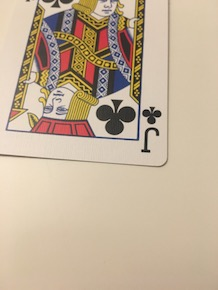JackOfClubs: (1, 1, 178, 169)
